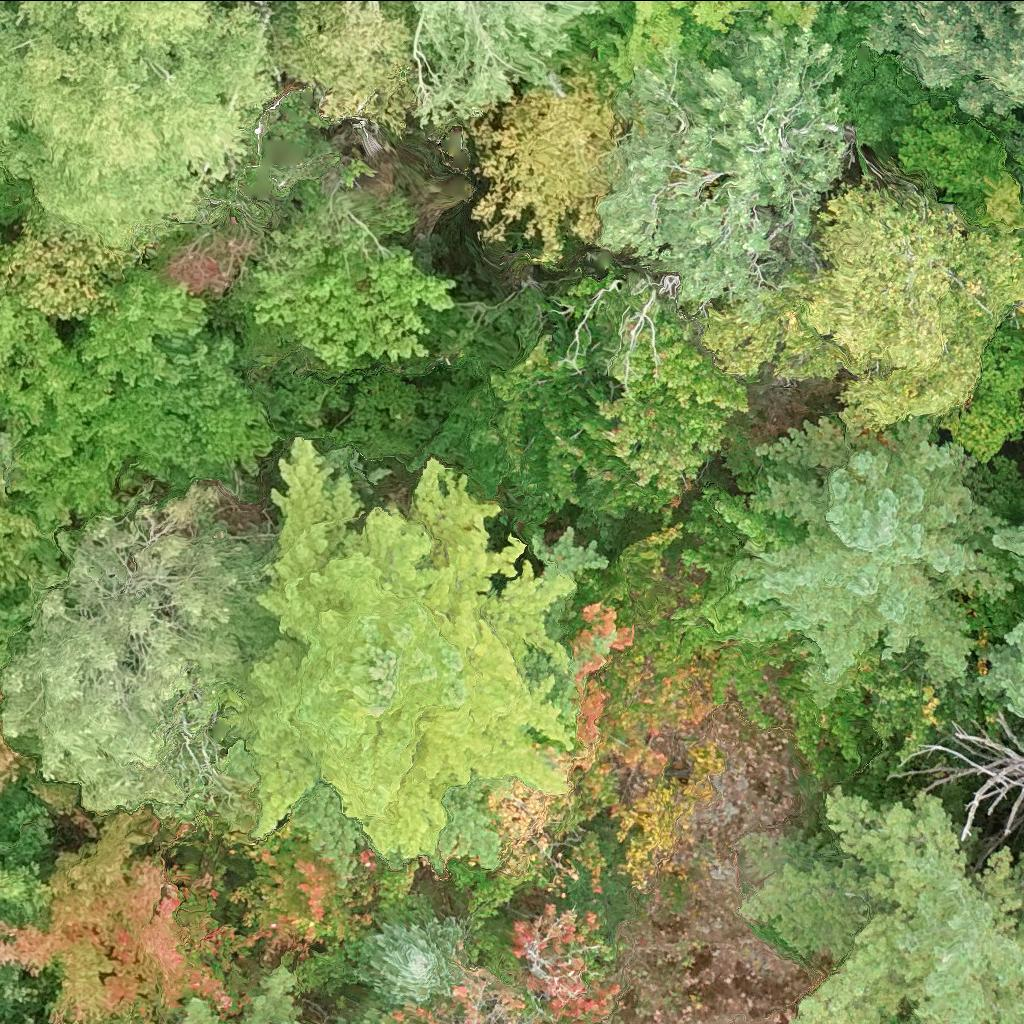crown: (240, 436, 607, 875), (0, 489, 283, 813), (732, 416, 1011, 705), (704, 185, 1023, 435), (4, 0, 278, 255), (598, 32, 846, 311), (0, 280, 279, 521), (402, 280, 625, 576), (746, 791, 1023, 1023), (0, 805, 262, 1023), (548, 522, 716, 786), (560, 276, 748, 489), (710, 634, 944, 779), (252, 194, 453, 361), (467, 63, 627, 259), (446, 761, 619, 928), (670, 460, 808, 649), (409, 0, 598, 125), (252, 0, 418, 137), (867, 0, 1023, 134), (609, 739, 727, 894), (891, 101, 1023, 237), (887, 713, 1023, 843), (616, 0, 814, 89), (936, 263, 1023, 461), (237, 836, 388, 949), (507, 907, 614, 1017), (356, 919, 478, 1012), (393, 970, 554, 1023), (0, 787, 56, 937), (187, 972, 303, 1023), (0, 0, 34, 170), (0, 500, 39, 588), (0, 723, 38, 797), (991, 626, 1023, 712), (0, 946, 26, 1001), (997, 525, 1023, 551), (0, 430, 13, 465), (1016, 566, 1023, 579), (0, 467, 3, 485)
